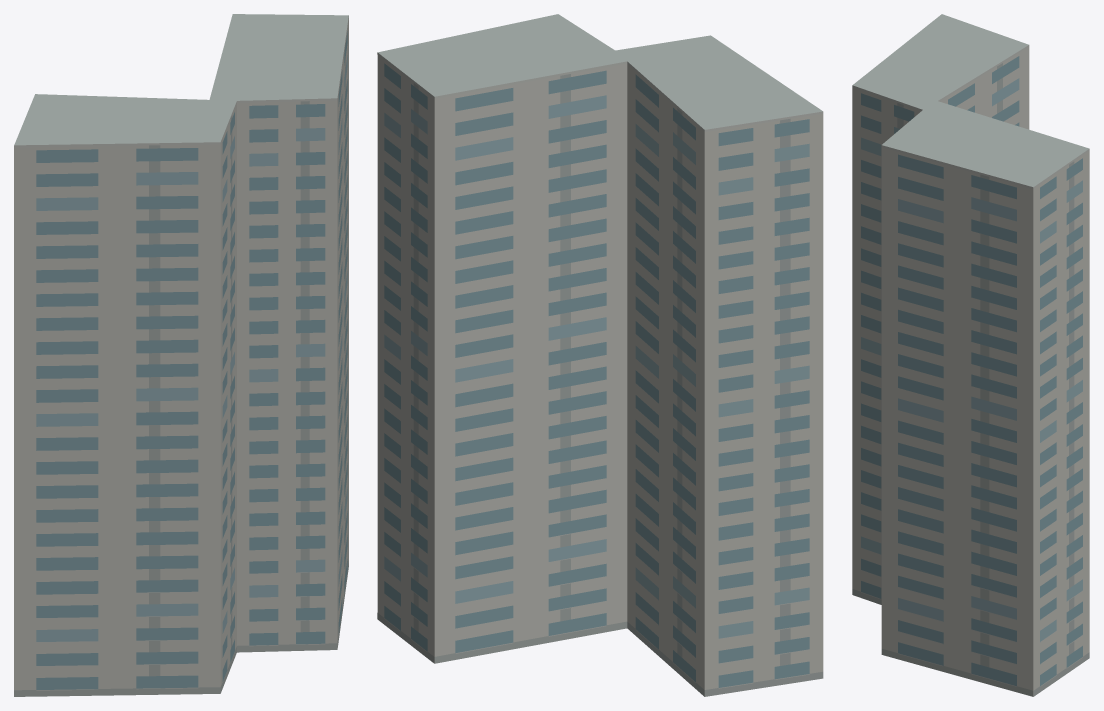
Rendered from residential-60d63d61-390d-47bf-b8da-4e98f647d35f.glb.
The picture shows the model from 3 angles, left to right: view 1: azimuth 30°, elevation 25°; view 2: azimuth 150°, elevation 25°; view 3: azimuth 270°, elevation 25°; orthographic projection. The views are drawn at different scales.
Visible parts, largest first — view 1: residential-60d63d61-390d-47bf-b8da-4e98f647d35f.tmp; view 2: residential-60d63d61-390d-47bf-b8da-4e98f647d35f.tmp; view 3: residential-60d63d61-390d-47bf-b8da-4e98f647d35f.tmp.
Boxes of the visible parts, x1,y1,x2,y2 form: residential-60d63d61-390d-47bf-b8da-4e98f647d35f.tmp: (14, 14, 348, 696); residential-60d63d61-390d-47bf-b8da-4e98f647d35f.tmp: (377, 14, 823, 696); residential-60d63d61-390d-47bf-b8da-4e98f647d35f.tmp: (852, 14, 1089, 696).
Bounding box in the file's own units: 46.66 × 64 × 27.01.
